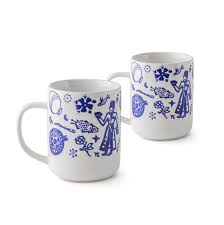mug: (10, 71, 130, 191), (102, 46, 217, 148)
